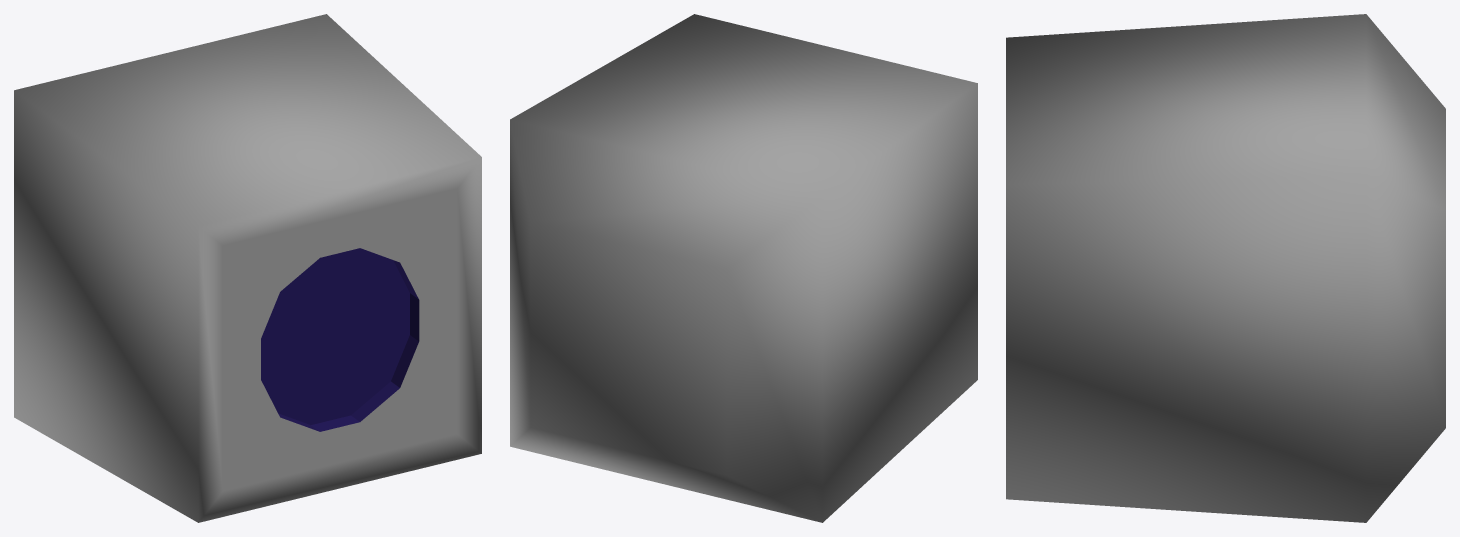
File: Camera.fbx
3 renders of one model, left to right at view 1: azimuth 30°, elevation 25°; view 2: azimuth 150°, elevation 25°; view 3: azimuth 270°, elevation 25°, orthographic. The views are drawn at different scales.
Visible parts, largest first — view 1: Camera; view 2: Camera; view 3: Camera.
Boxes of the visible parts, box(x1,y1,x2,y2) form: Camera: box(14, 14, 481, 522); Camera: box(510, 14, 977, 522); Camera: box(1006, 14, 1445, 522).
Size of the model in its own units: 11.02 by 11.02 by 12.66.
